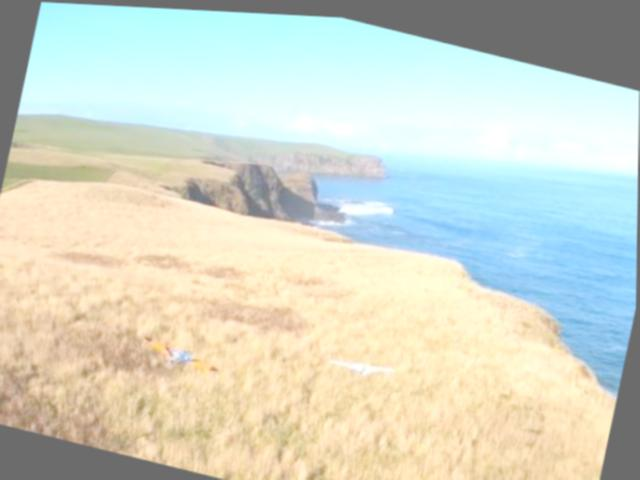uav: (139, 327, 225, 379), (328, 347, 401, 382)
